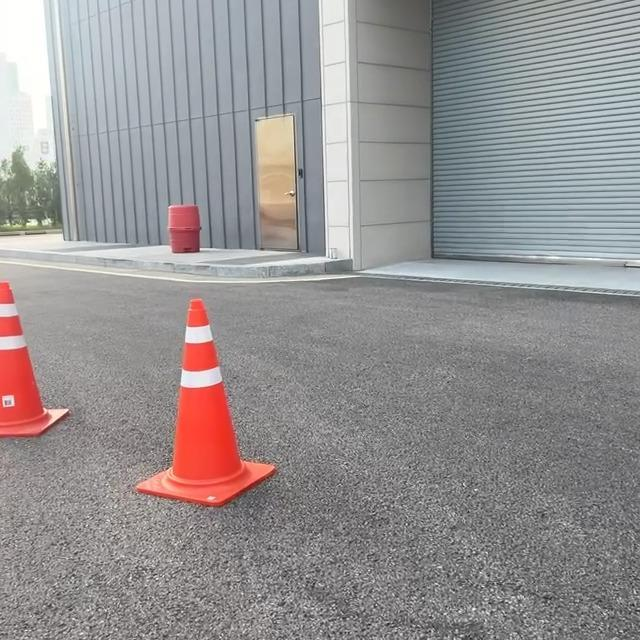fallen_object: (153, 260, 285, 571), (0, 289, 120, 456)
